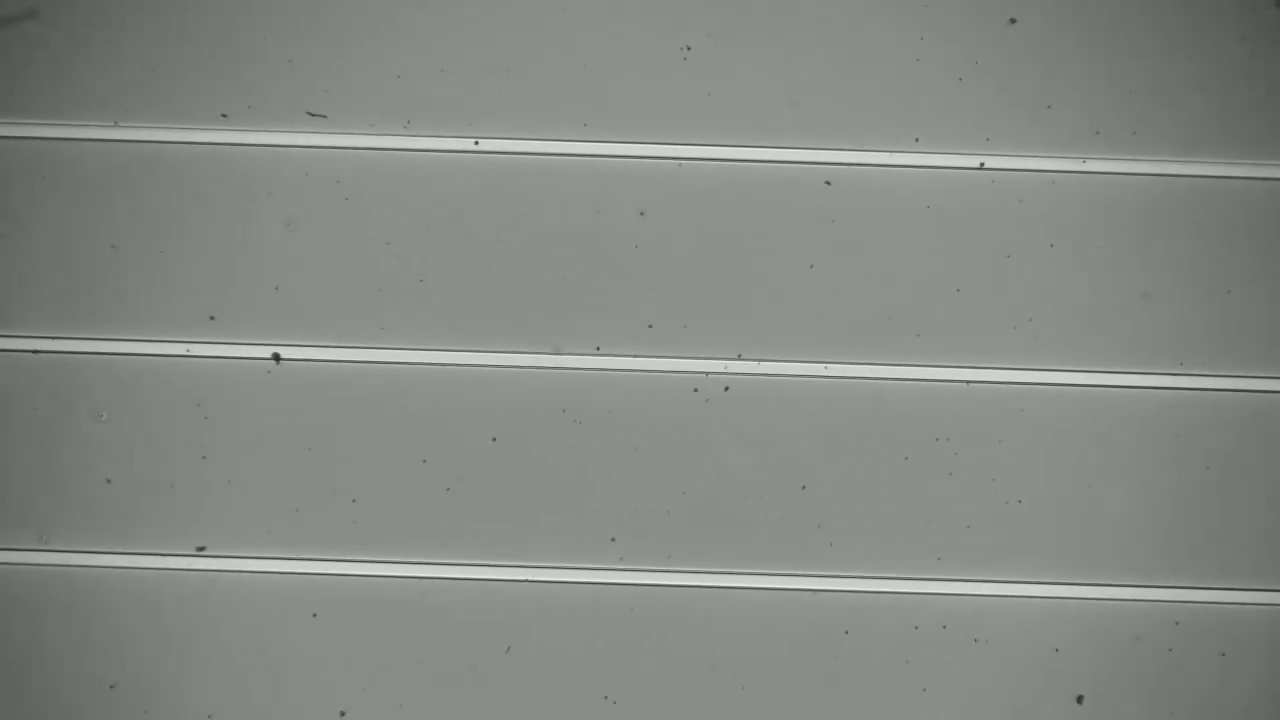stains_enbedded: (259, 340, 290, 369)
